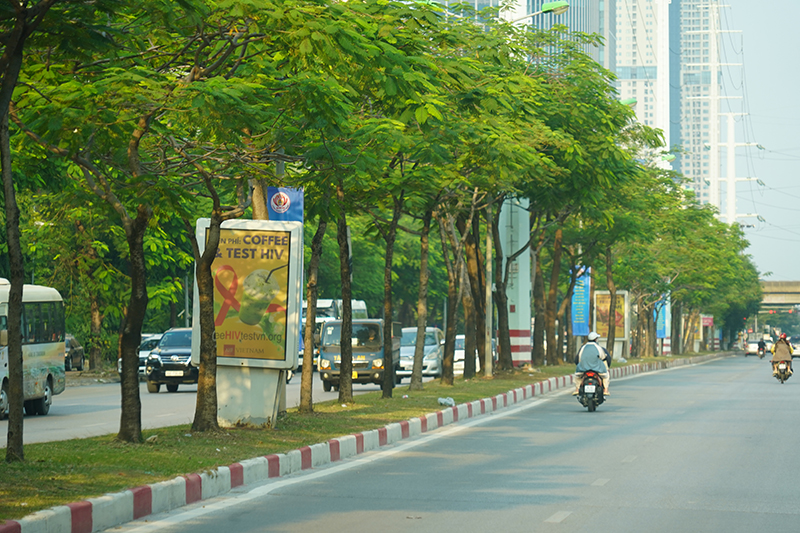bien_so: (584, 384, 597, 394)
